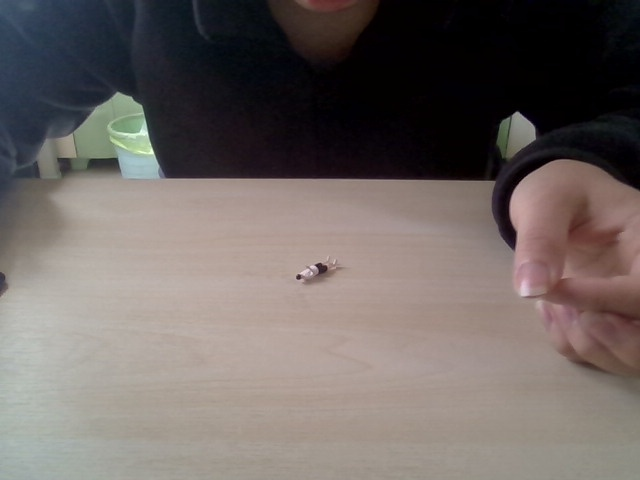fall: (290, 252, 342, 286)
